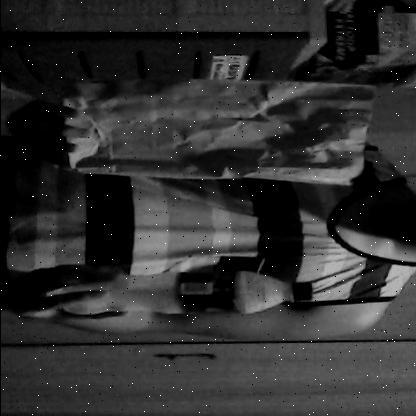Plastic Bottle: (41, 262, 319, 325)
